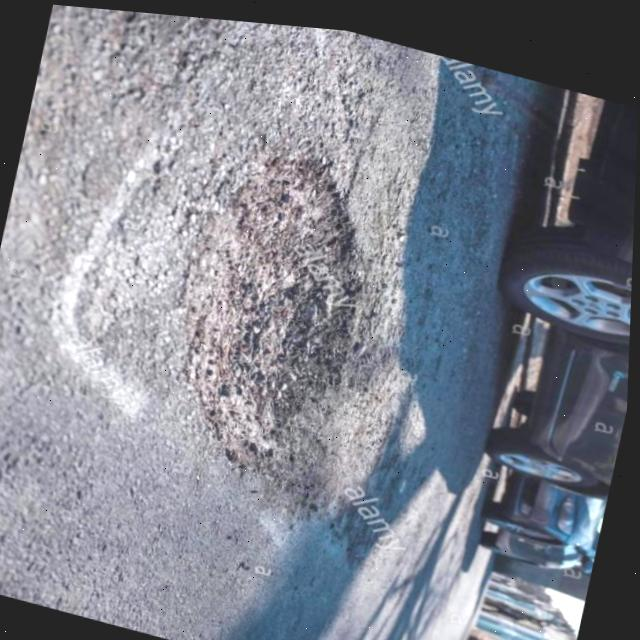Pothole: (141, 126, 417, 511)
